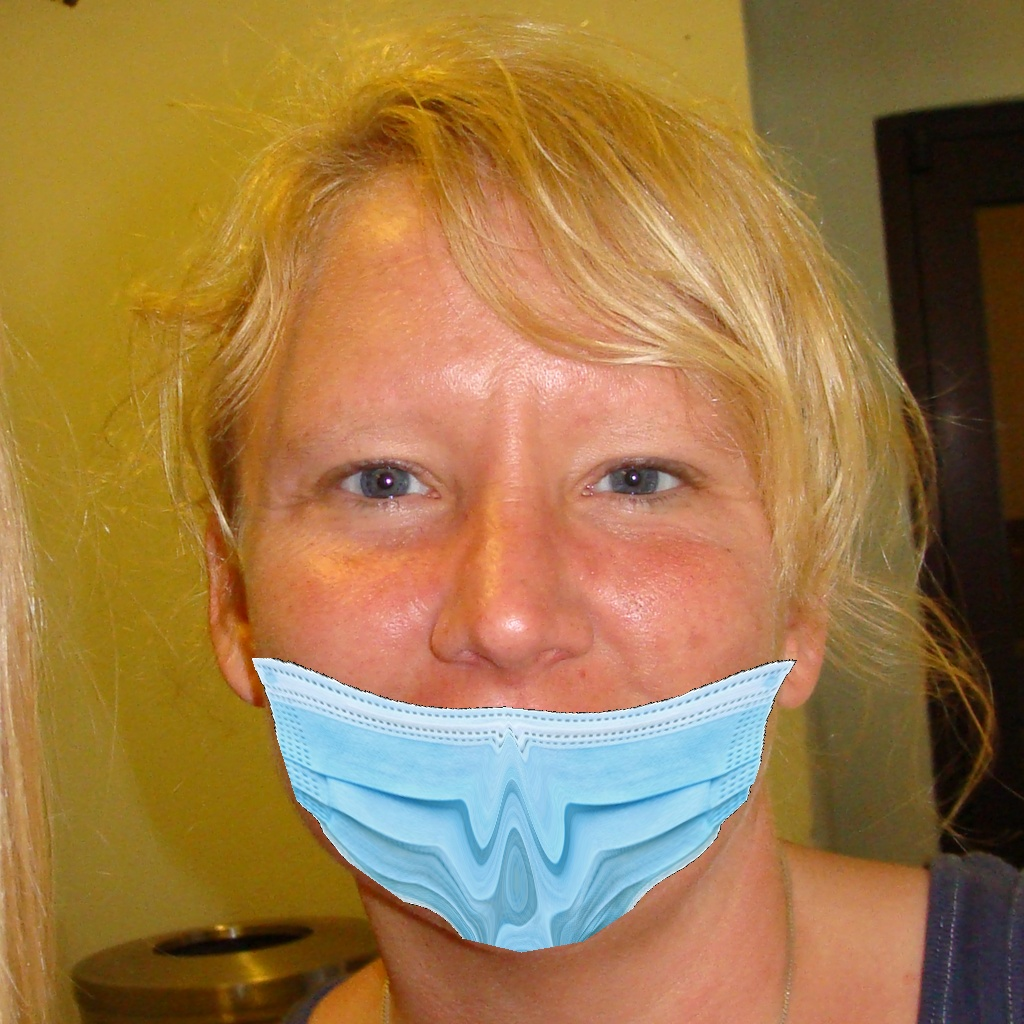NoMask: (235, 555, 788, 953)
